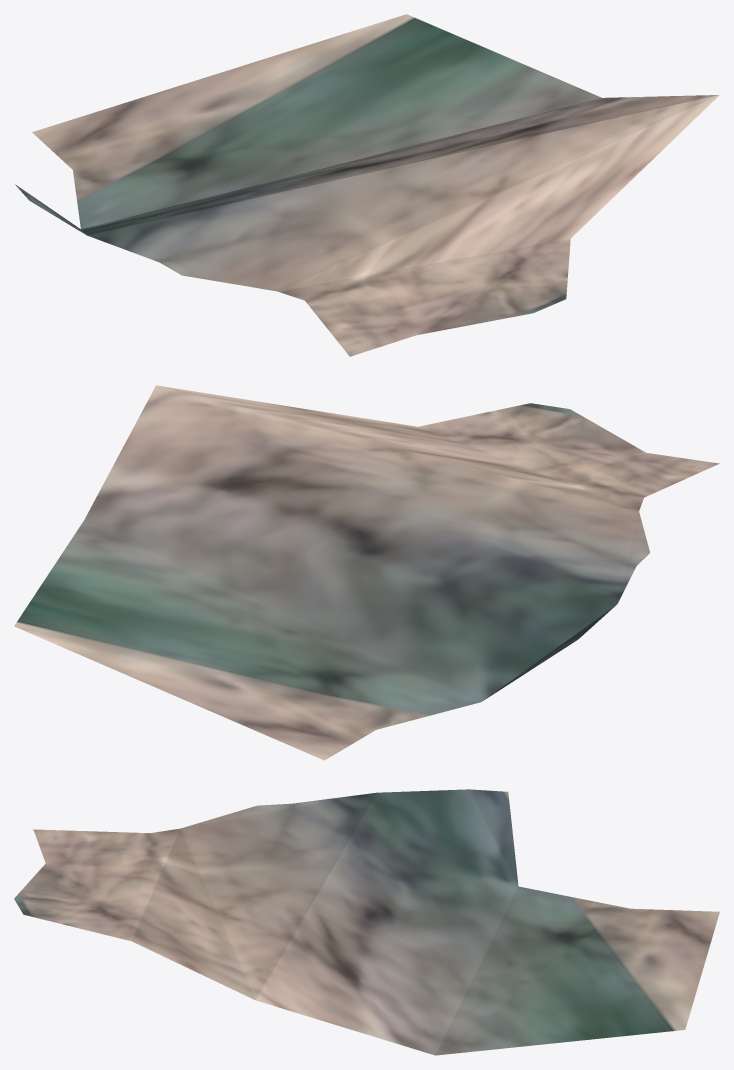
The model's file is Ridge_7_Top.gltf.
3 views of the same model, one above another, from view 1: azimuth 30°, elevation 25°; view 2: azimuth 150°, elevation 25°; view 3: azimuth 270°, elevation 25° (orthographic). The views are drawn at different scales.
Visible parts, largest first — view 1: Ridge_7_Top; view 2: Ridge_7_Top; view 3: Ridge_7_Top.
Boxes of the visible parts, x1=… form: Ridge_7_Top: x1=15, y1=14, x2=719, y2=356; Ridge_7_Top: x1=14, y1=385, x2=719, y2=760; Ridge_7_Top: x1=14, y1=789, x2=719, y2=1055.
Bounding box in the file's own units: 46.89 × 9.21 × 54.32.
Materials: 1 (1 with a texture image).
